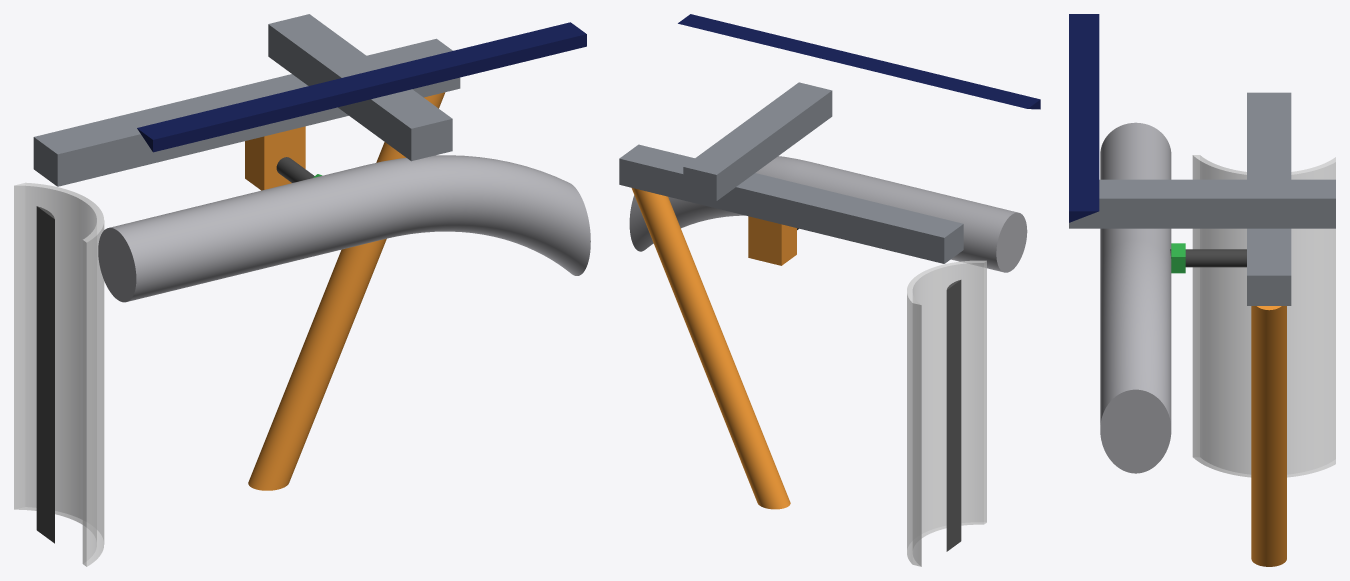
File: track-supports-top-v1.glb
The picture shows the model from 3 angles, left to right: view 1: azimuth 30°, elevation 25°; view 2: azimuth 150°, elevation 25°; view 3: azimuth 270°, elevation 25°; orthographic projection. The views are drawn at different scales.
Parts seen in each view (by area): view 1: track_loop, growing_pipe, solar_panel_30W, top_bar, top_triangle_legs_16mm, panel_rails_and_posts, spine_tube, top_hangers_from_crossbar; view 2: growing_pipe, top_bar, top_triangle_legs_16mm, track_loop, panel_rails_and_posts, solar_panel_30W, spine_tube, top_hangers_from_crossbar; view 3: growing_pipe, track_loop, panel_rails_and_posts, top_triangle_legs_16mm, top_bar, solar_panel_30W, support_m8_rods, support_lock_nuts.
Boxes of the visible parts, bbox=[...] form: track_loop: bbox=[98, 155, 590, 302]; growing_pipe: bbox=[14, 182, 104, 566]; solar_panel_30W: bbox=[137, 22, 586, 152]; top_bar: bbox=[33, 38, 460, 186]; top_triangle_legs_16mm: bbox=[248, 92, 445, 490]; panel_rails_and_posts: bbox=[268, 14, 452, 161]; spine_tube: bbox=[36, 206, 54, 543]; top_hangers_from_crossbar: bbox=[245, 126, 305, 190]; growing_pipe: bbox=[907, 260, 986, 566]; top_bar: bbox=[619, 144, 963, 263]; top_triangle_legs_16mm: bbox=[631, 187, 790, 509]; track_loop: bbox=[629, 156, 1027, 272]; panel_rails_and_posts: bbox=[683, 82, 832, 200]; solar_panel_30W: bbox=[678, 14, 1040, 109]; spine_tube: bbox=[946, 280, 961, 551]; top_hangers_from_crossbar: bbox=[748, 216, 796, 265]; growing_pipe: bbox=[1192, 155, 1335, 477]; track_loop: bbox=[1100, 122, 1171, 473]; panel_rails_and_posts: bbox=[1069, 179, 1335, 228]; top_triangle_legs_16mm: bbox=[1251, 306, 1286, 566]; top_bar: bbox=[1247, 92, 1291, 305]; solar_panel_30W: bbox=[1069, 14, 1099, 222]; support_m8_rods: bbox=[1170, 249, 1246, 267]; support_lock_nuts: bbox=[1171, 243, 1185, 273].
Size of the model in its own units: 220 by 220 by 120.
